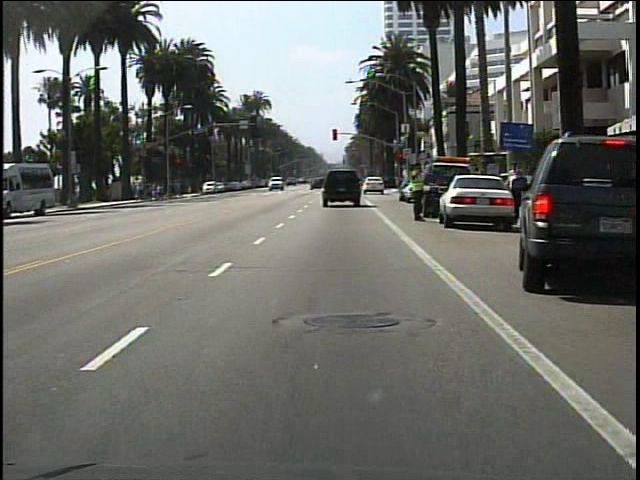person: (406, 165, 427, 227), (501, 158, 527, 208)
